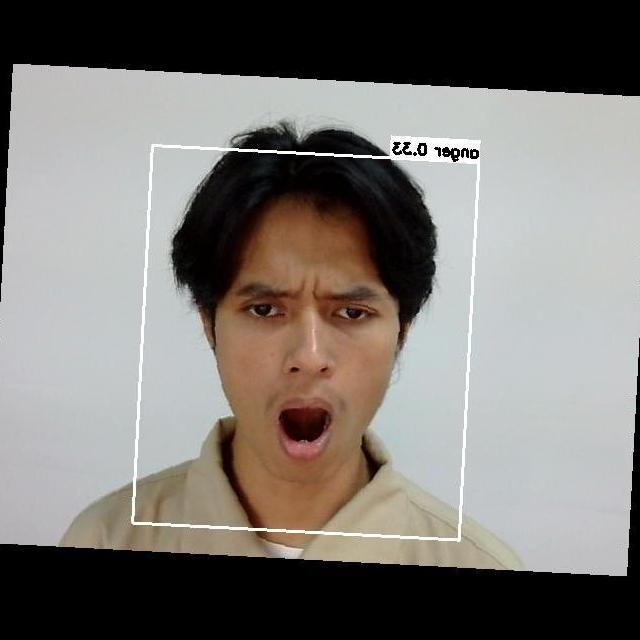Surprised: (209, 251, 417, 474)
